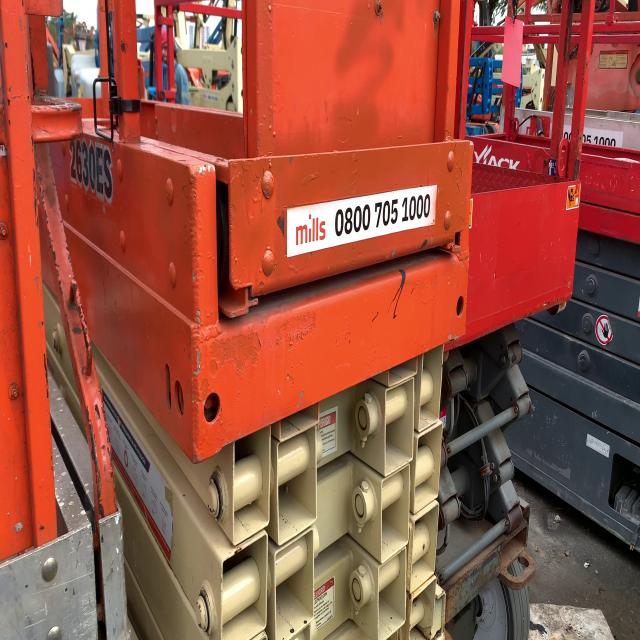Adesivo Longo: (284, 182, 439, 260)
